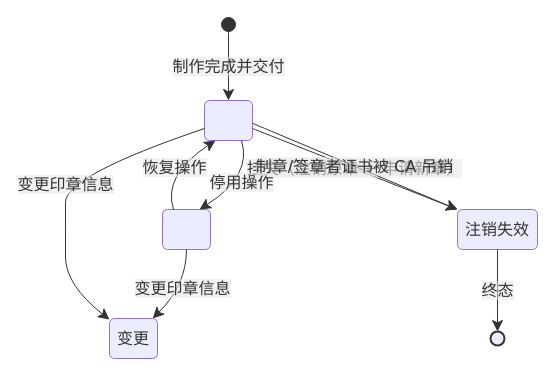
This 555x376 diagram has some shape labels left out. The centre of each missing label's shape, as x and y in pixels:
停用: (186,229)
正常: (228,120)
